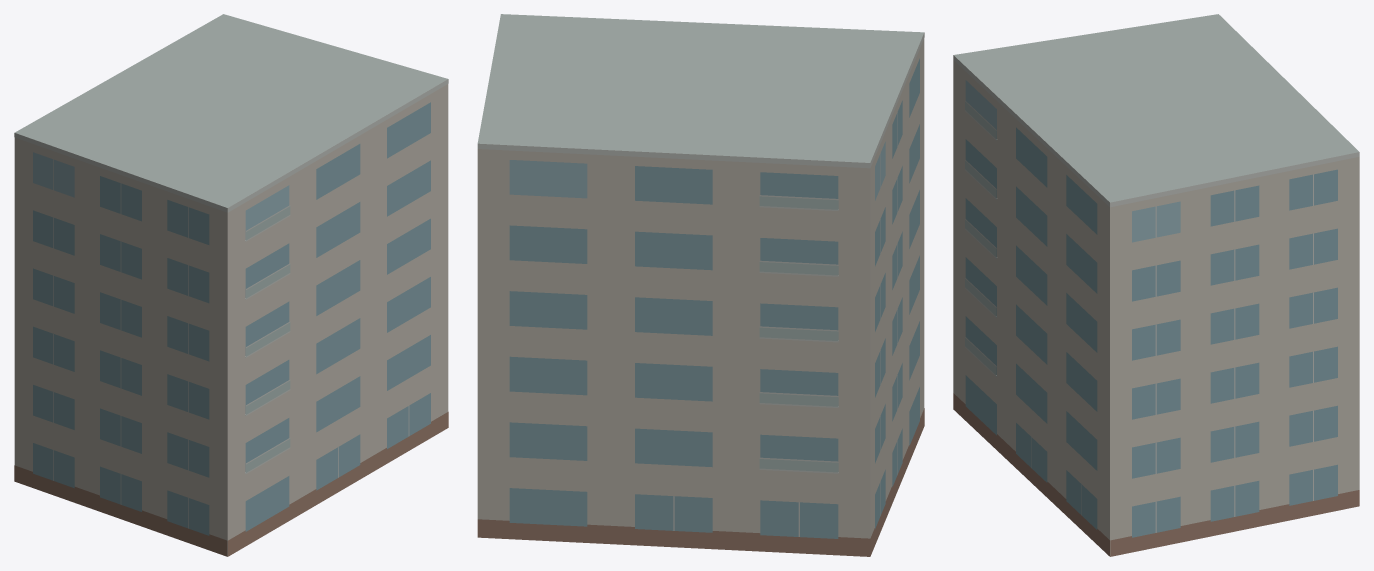
The model's file is survey-upis-32581933.glb.
3 renders of one model, left to right at view 1: azimuth 30°, elevation 25°; view 2: azimuth 150°, elevation 25°; view 3: azimuth 270°, elevation 25°, orthographic. The views are drawn at different scales.
Visible parts, largest first — view 1: survey-upis-32581933.tmp; view 2: survey-upis-32581933.tmp; view 3: survey-upis-32581933.tmp.
Part boxes in pixels (x1,y1,x2,y2): survey-upis-32581933.tmp: (14,14,448,556); survey-upis-32581933.tmp: (477,14,924,556); survey-upis-32581933.tmp: (953,14,1359,556).
Bounding box in the file's own units: 20.91 × 18.3 × 19.03.
